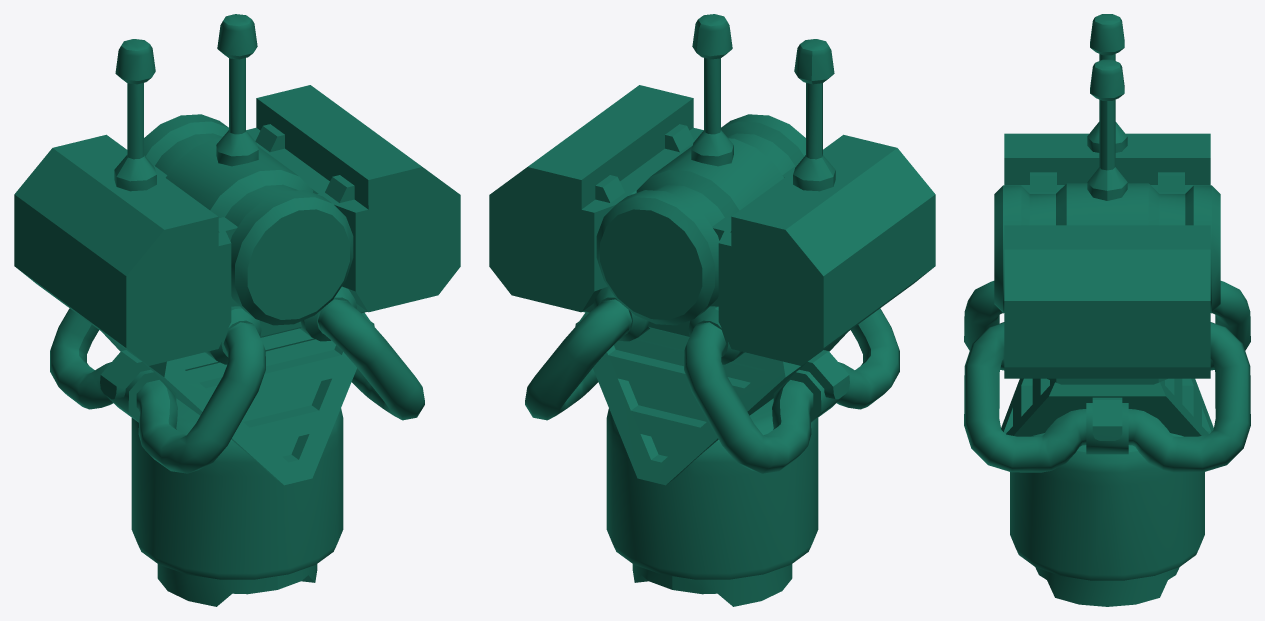
The model's file is obj_survivalobject_controlstationkey02.fbx.
The picture shows the model from 3 angles, left to right: view 1: azimuth 30°, elevation 25°; view 2: azimuth 150°, elevation 25°; view 3: azimuth 270°, elevation 25°; orthographic projection. The views are drawn at different scales.
Parts seen in each view (by area): view 1: part4_lp.004; view 2: part4_lp.004; view 3: part4_lp.004.
Boxes of the visible parts, x1=… form: part4_lp.004: x1=14, y1=14, x2=460, y2=606; part4_lp.004: x1=489, y1=14, x2=935, y2=606; part4_lp.004: x1=964, y1=14, x2=1250, y2=606.
Size of the model in its own units: 3.64 by 5.79 by 2.94.
